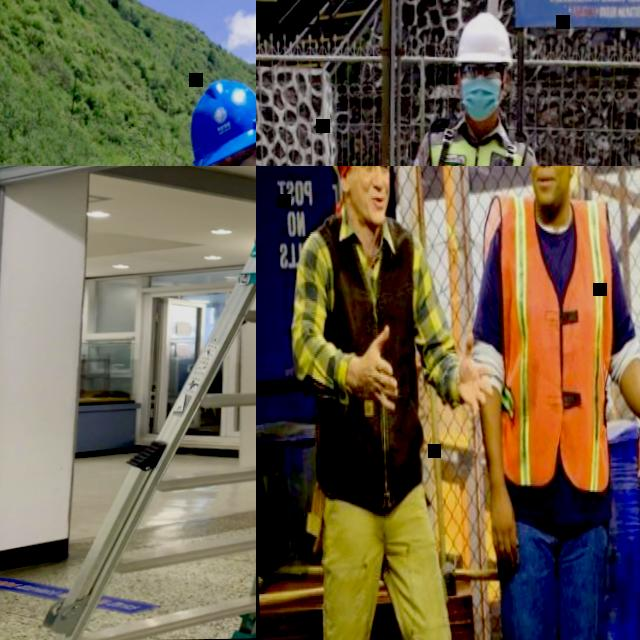Hardhat: (188, 77, 256, 166), (453, 14, 510, 67)
Mask: (457, 72, 506, 123)
NO-Mask: (531, 169, 568, 210), (350, 188, 385, 223)
NO-Safety Vest: (306, 210, 427, 506)
Person: (283, 166, 501, 640), (458, 166, 640, 640), (373, 10, 577, 166), (87, 0, 256, 166), (127, 166, 256, 373)
Safety Vest: (480, 188, 619, 481), (406, 124, 531, 166)
